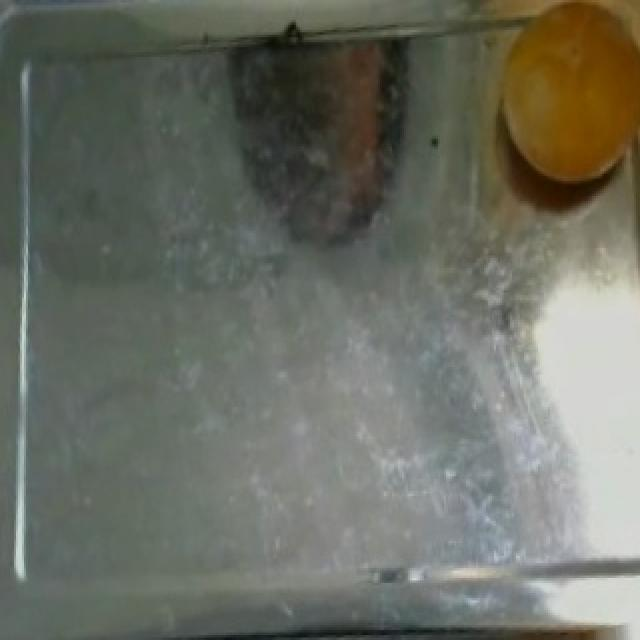Fruit: (468, 0, 640, 206)
